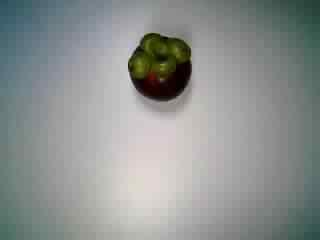mangosteen: (122, 31, 196, 103)
